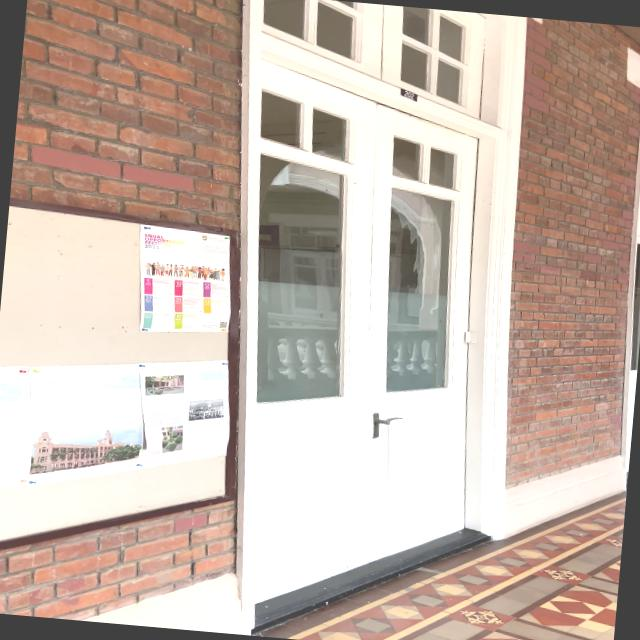room202: (397, 86, 421, 102)
